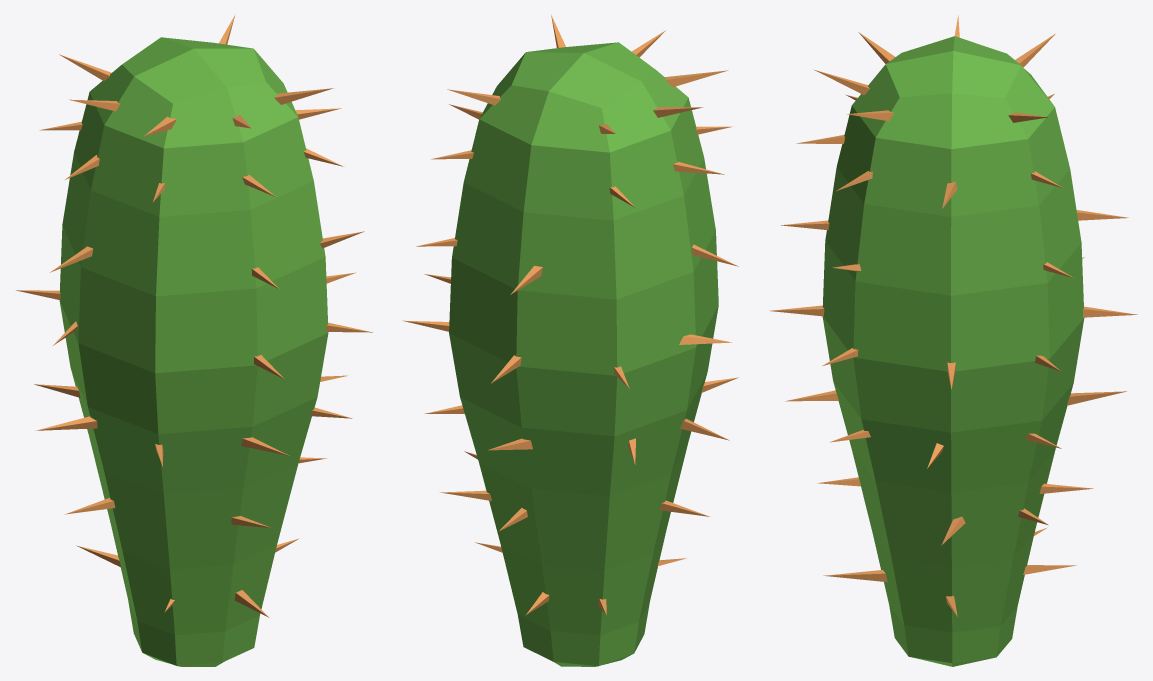
Rendered from nature-cactus-1.glb.
3 renders of one model, left to right at view 1: azimuth 30°, elevation 25°; view 2: azimuth 150°, elevation 25°; view 3: azimuth 270°, elevation 25°, orthographic.
Parts seen in each view (by area): view 1: Cactus_1; view 2: Cactus_1; view 3: Cactus_1.
Boxes of the visible parts, x1,y1,x2,y2 form: Cactus_1: (16, 14, 372, 666); Cactus_1: (402, 14, 738, 666); Cactus_1: (769, 15, 1137, 666).
Bounding box in the file's own units: 54.97 × 101 × 56.29.
